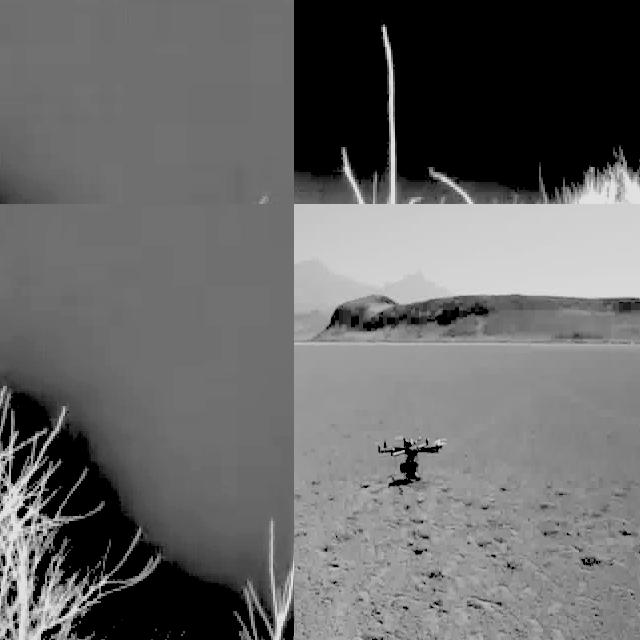drone: (378, 427, 445, 485)
